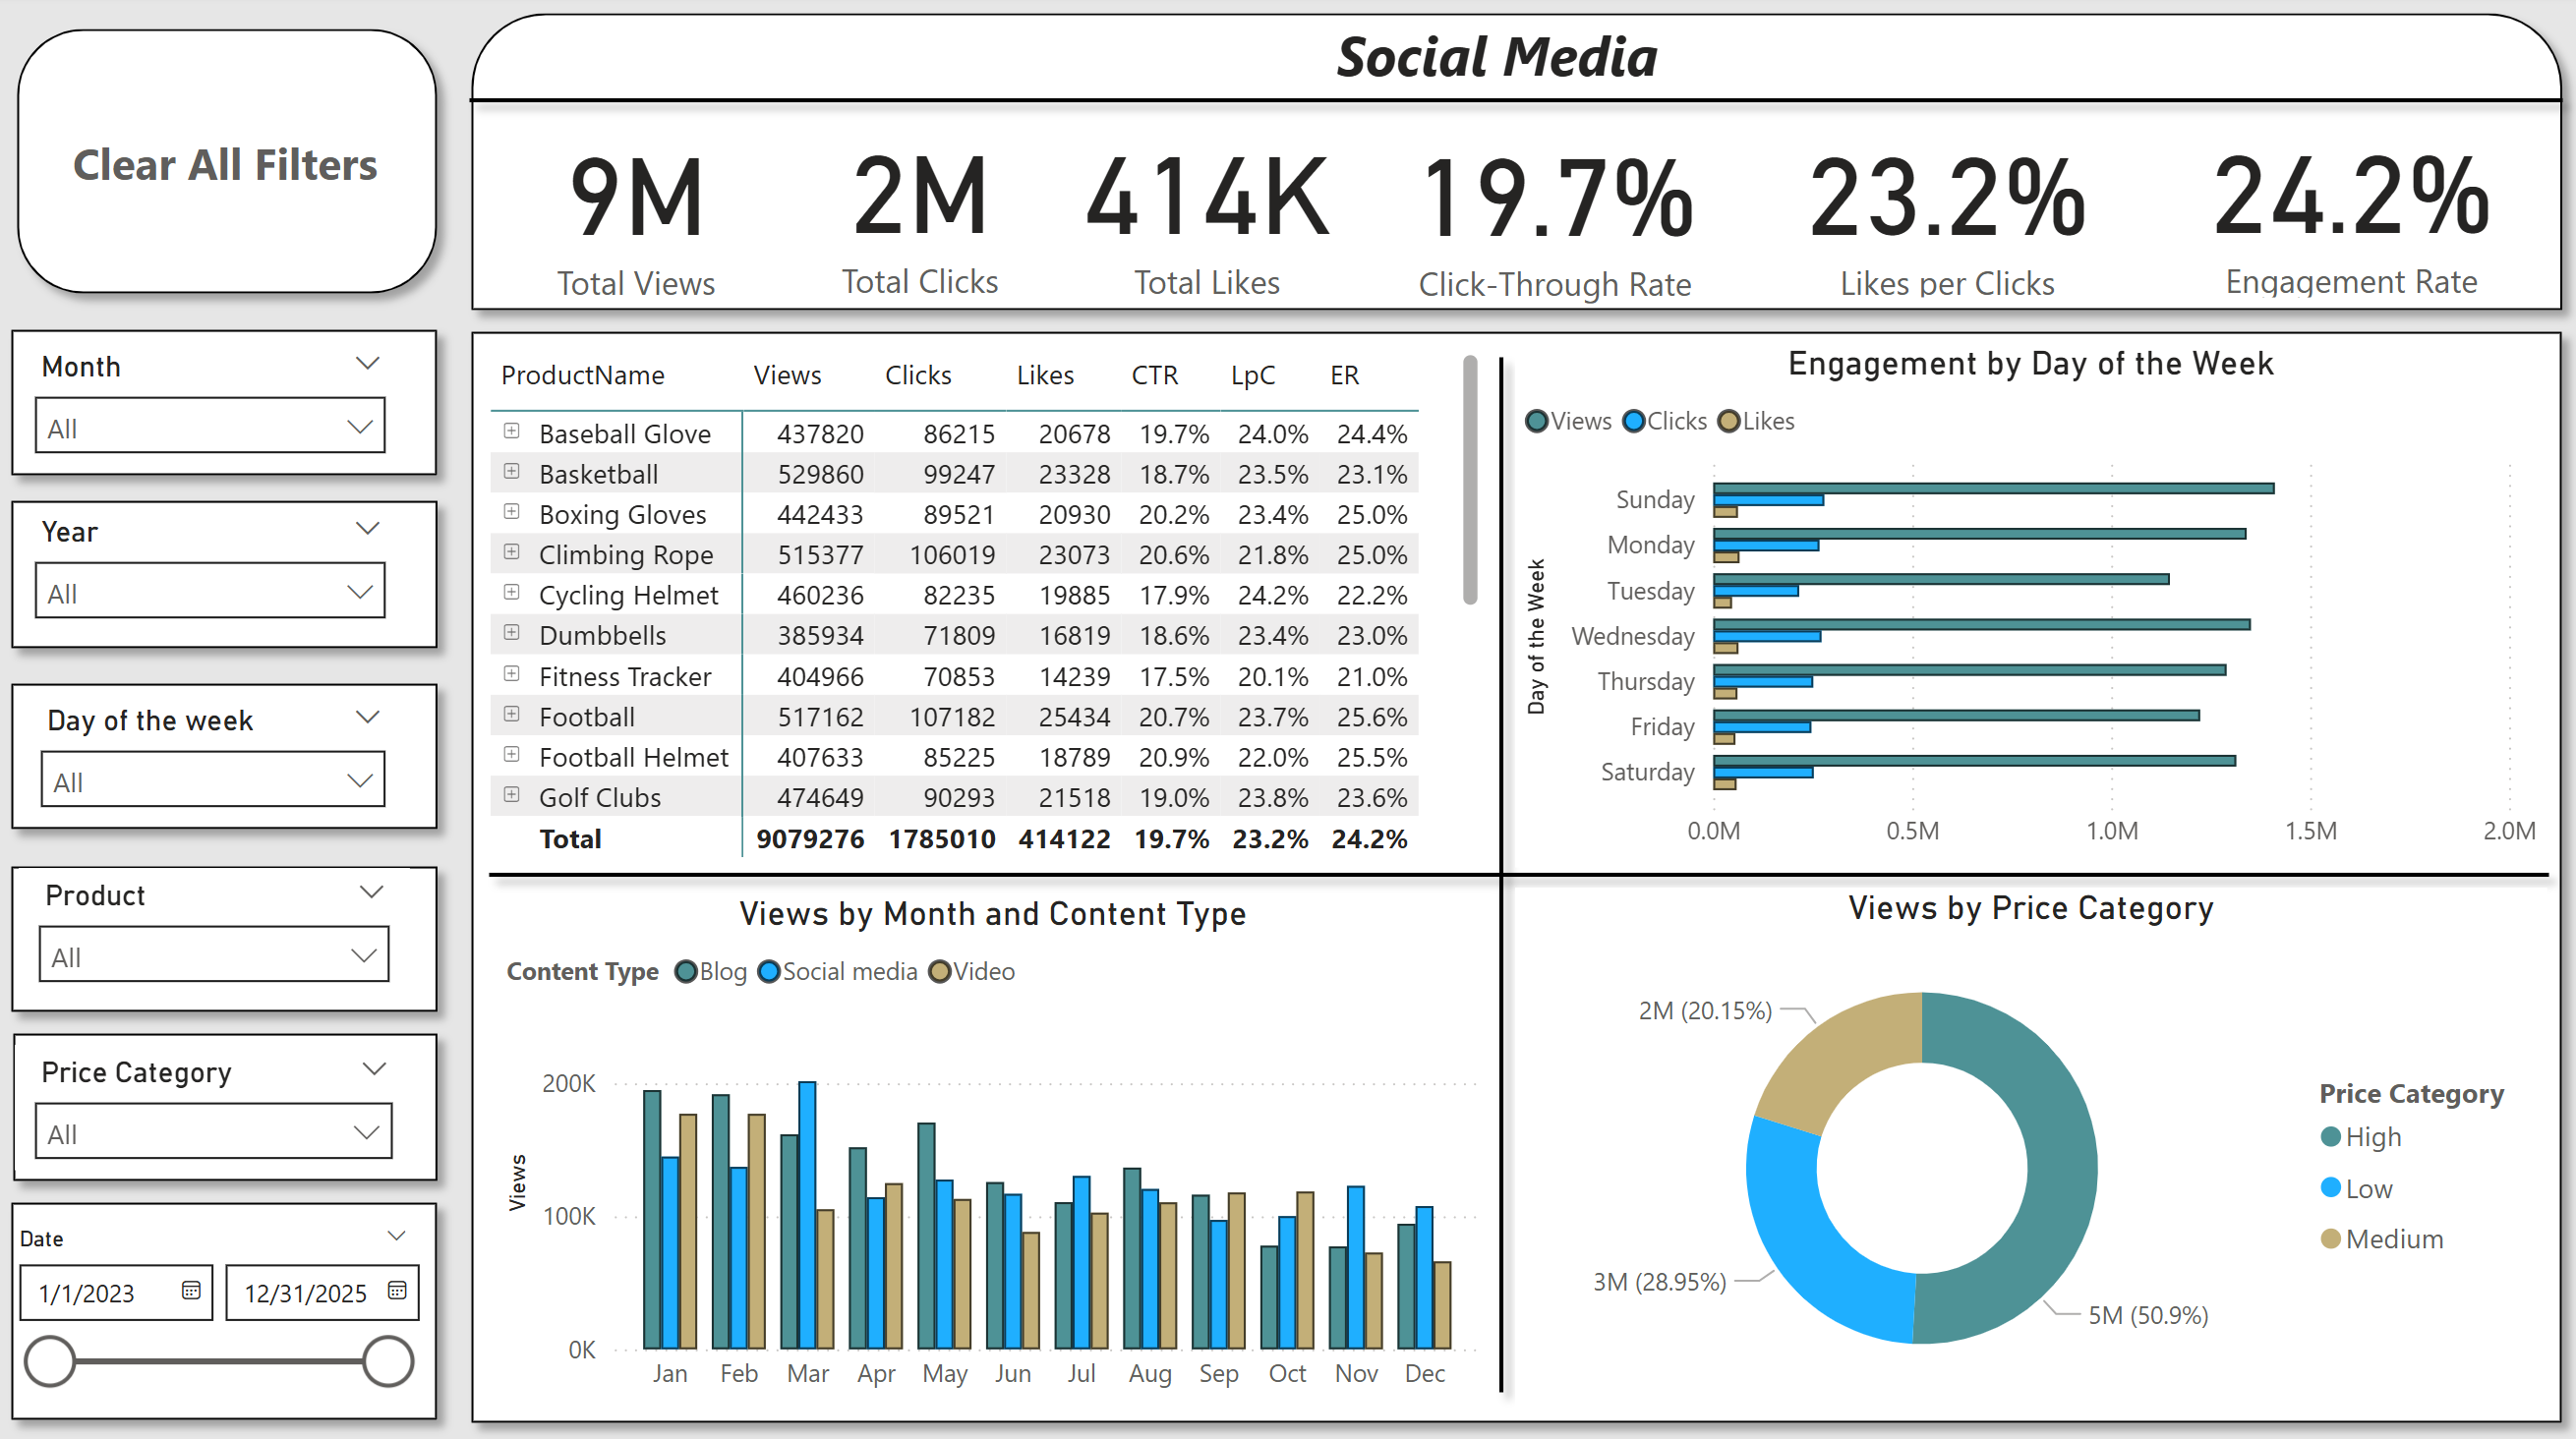

The dashboard page shown, as its layout file describes it:
{"tool":"powerbi","page":{"name":"Social Media Details","canvas":[1280,720],"ordinal":1},"visuals":[{"type":"shape","box":[227.8,1,1052.2,164.9],"z":0},{"type":"shape","box":[228.1,158.2,1051.9,557.8],"z":1000},{"type":"shape","box":[0,157.6,228.6,90],"z":2000},{"type":"shape","box":[2.9,8.8,225.7,148.8],"z":3000},{"type":"shape","box":[0,241.8,228.8,90.9],"z":4000},{"type":"shape","box":[0,422.7,228.8,89.9],"z":5000},{"type":"shape","box":[0,589.4,228.6,125.5],"z":6000},{"type":"shape","box":[1,505.6,227.8,90.9],"z":7000},{"type":"actionButton","box":[12.6,17.5,204.3,132.3],"z":8000},{"type":"slicer","fields":{"Values":["dim_calendar.MonthNameLong"]},"box":[10.7,171.2,193.6,61.3],"z":9000},{"type":"slicer","fields":{"Values":["dim_calendar.Year"]},"box":[10.7,252.9,193.6,61.3],"z":10000},{"type":"slicer","fields":{"Values":["dim_calendar.Date"]},"box":[0,605,216.9,96.3],"z":11000},{"type":"slicer","fields":{"Values":["dim_products.PriceCategory"]},"box":[11,520.6,196.8,62],"z":12000},{"type":"shape","box":[0,332.7,228.8,89.9],"z":13000},{"type":"slicer","fields":{"Values":["dim_calendar.DayOfWeek"]},"box":[13.6,346.3,190.6,60.3],"z":14000},{"type":"slicer","fields":{"Values":["dim_products.ProductName"]},"box":[12.6,432.8,193.6,63.2],"z":15000},{"type":"card","fields":{"Values":["Sum(fact_engagement_data.Views)"]},"box":[243.5,50.3,150,107.9],"z":16000},{"type":"card","fields":{"Values":["Sum(fact_engagement_data.Clicks)"]},"box":[383.2,49.6,150.8,108],"z":17000},{"type":"card","fields":{"Values":["Sum(fact_engagement_data.Likes)"]},"box":[525.2,50.6,150.8,107],"z":18000},{"type":"card","fields":{"Values":["fact_engagement_data.CTR"]},"box":[691.6,51.6,162.4,107],"z":19000},{"type":"shape","box":[226.6,37,1053.4,32.1],"z":20000},{"type":"textbox","box":[659.5,6.8,191.6,46.7],"z":21000},{"type":"card","fields":{"Values":["fact_engagement_data.Engagement Rate"]},"box":[1069.9,51.6,193.6,104.1],"z":25000},{"type":"card","fields":{"Values":["fact_engagement_data.LpC"]},"box":[863.7,53.5,206.2,102.1],"z":26000},{"type":"shape","box":[719.8,171.2,52.5,530.1],"z":29000},{"type":"shape","box":[236.4,413.4,1036.8,45.7],"z":30000},{"type":"clusteredColumnChart","title":"Views by Month and Content Type","fields":{"Category":["dim_calendar.MonthNameShort"],"Series":["fact_engagement_data.ContentType"],"Y":["Sum(fact_engagement_data.Views)"]},"box":[249.3,445.6,491.4,255.5],"z":32000},{"type":"donutChart","title":"Views by Price Category","fields":{"Y":["Sum(fact_engagement_data.Views)"],"Category":["dim_products.PriceCategory"]},"box":[752.8,442.6,510.6,258.7],"z":34001},{"type":"pivotTable","fields":{"Rows":["dim_products.ProductName","fact_engagement_data.ContentType"],"Values":["Sum(fact_engagement_data.Views)","Sum(fact_engagement_data.Clicks)","Sum(fact_engagement_data.Likes)","fact_engagement_data.CTR","fact_engagement_data.LpC","fact_engagement_data.Engagement Rate"]},"box":[241.2,173.1,499,259.7],"z":34002},{"type":"clusteredBarChart","title":"Engagement by Day of the Week","fields":{"Category":["dim_calendar.DayOfWeek"],"Y":["Sum(fact_engagement_data.Views)","Sum(fact_engagement_data.Clicks)","Sum(fact_engagement_data.Likes)"]},"box":[752.8,173.1,510.6,259.7],"z":34003}]}

Visuals, with their boxes in screenshot pixels (x1, y1, x2, y2), scaled from the page's 1280x720 canvas onto the 2576x1439 screenshot:
shape: <box>458,2,2575,331</box>
shape: <box>459,317,2575,1431</box>
shape: <box>0,315,460,494</box>
shape: <box>6,18,460,315</box>
shape: <box>0,484,460,664</box>
shape: <box>0,844,460,1024</box>
shape: <box>0,1178,460,1429</box>
shape: <box>2,1010,460,1192</box>
actionButton: <box>26,35,437,300</box>
slicer - dim_calendar.MonthNameLong: <box>22,342,411,465</box>
slicer - dim_calendar.Year: <box>22,505,411,628</box>
slicer - dim_calendar.Date: <box>0,1209,437,1402</box>
slicer - dim_products.PriceCategory: <box>23,1041,418,1165</box>
shape: <box>0,664,460,844</box>
slicer - dim_calendar.DayOfWeek: <box>28,692,411,813</box>
slicer - dim_products.ProductName: <box>26,865,415,992</box>
card - Sum(fact_engagement_data.Views): <box>490,100,791,317</box>
card - Sum(fact_engagement_data.Clicks): <box>771,99,1075,315</box>
card - Sum(fact_engagement_data.Likes): <box>1057,101,1361,315</box>
card - fact_engagement_data.CTR: <box>1392,103,1719,317</box>
shape: <box>456,74,2575,139</box>
textbox: <box>1327,14,1713,107</box>
card - fact_engagement_data.Engagement Rate: <box>2153,103,2543,312</box>
card - fact_engagement_data.LpC: <box>1738,107,2153,311</box>
shape: <box>1448,342,1554,1402</box>
shape: <box>476,827,2562,918</box>
"Views by Month and Content Type" clusteredColumnChart: <box>501,891,1491,1402</box>
"Views by Price Category" donutChart: <box>1515,885,2543,1402</box>
pivotTable - dim_products.ProductName x fact_engagement_data.ContentType: <box>486,346,1490,865</box>
"Engagement by Day of the Week" clusteredBarChart: <box>1515,346,2543,865</box>
